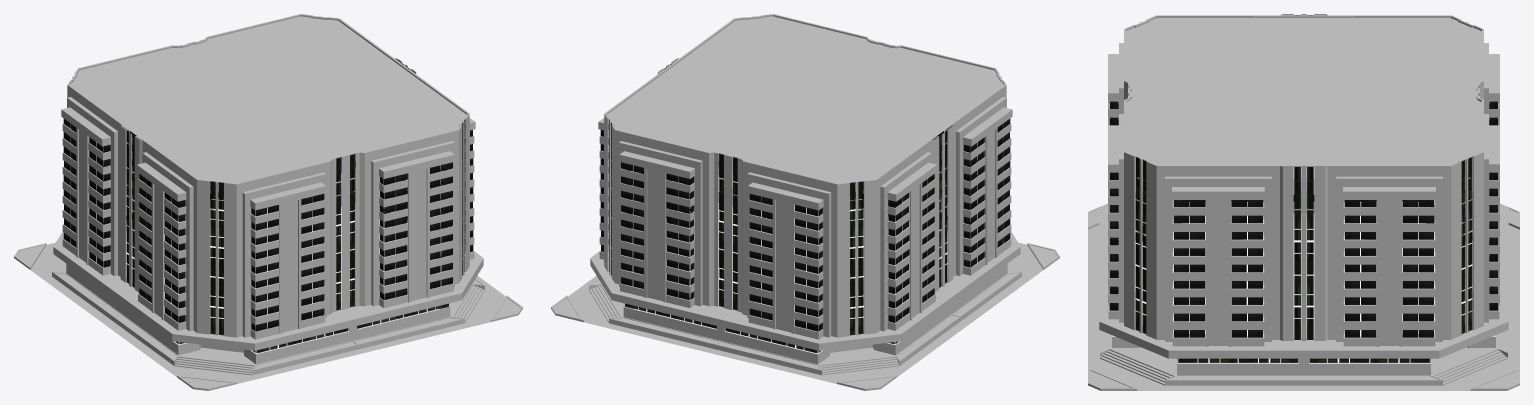
3 renders of one model, left to right at view 1: azimuth 30°, elevation 25°; view 2: azimuth 150°, elevation 25°; view 3: azimuth 270°, elevation 25°, orthographic. The views are drawn at different scales.
Visible parts, largest first — view 1: QD-13; view 2: QD-13; view 3: QD-13.
Part boxes in pixels (x1=…): QD-13: x1=14, y1=14, x2=522, y2=390; QD-13: x1=551, y1=14, x2=1059, y2=390; QD-13: x1=1088, y1=14, x2=1519, y2=390.
Size of what is drawn, in the model's own units: 72.01 by 38.48 by 72.
